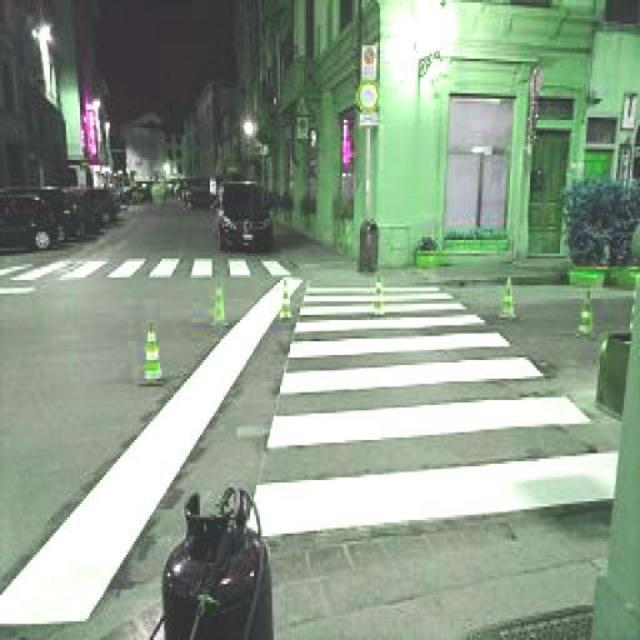sidewalk: (0, 257, 621, 551)
